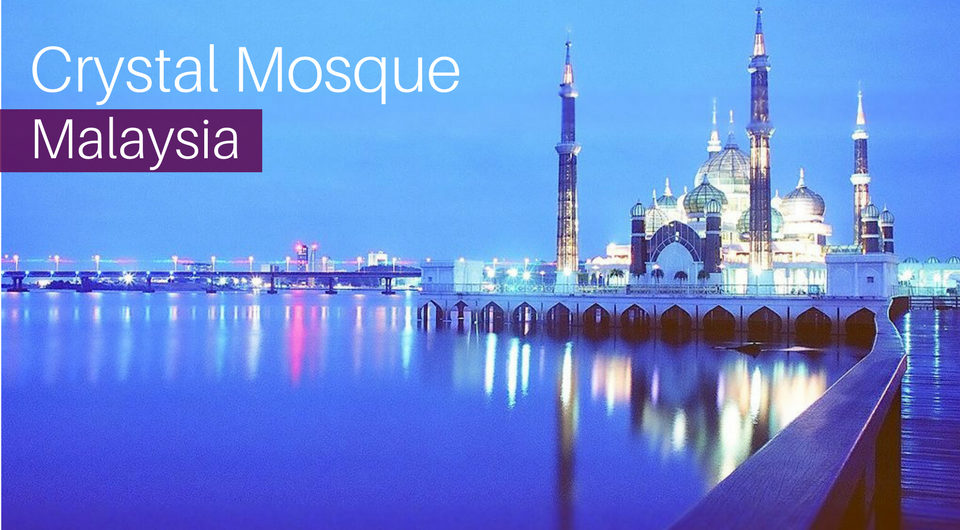Mosque: (398, 14, 888, 321)
